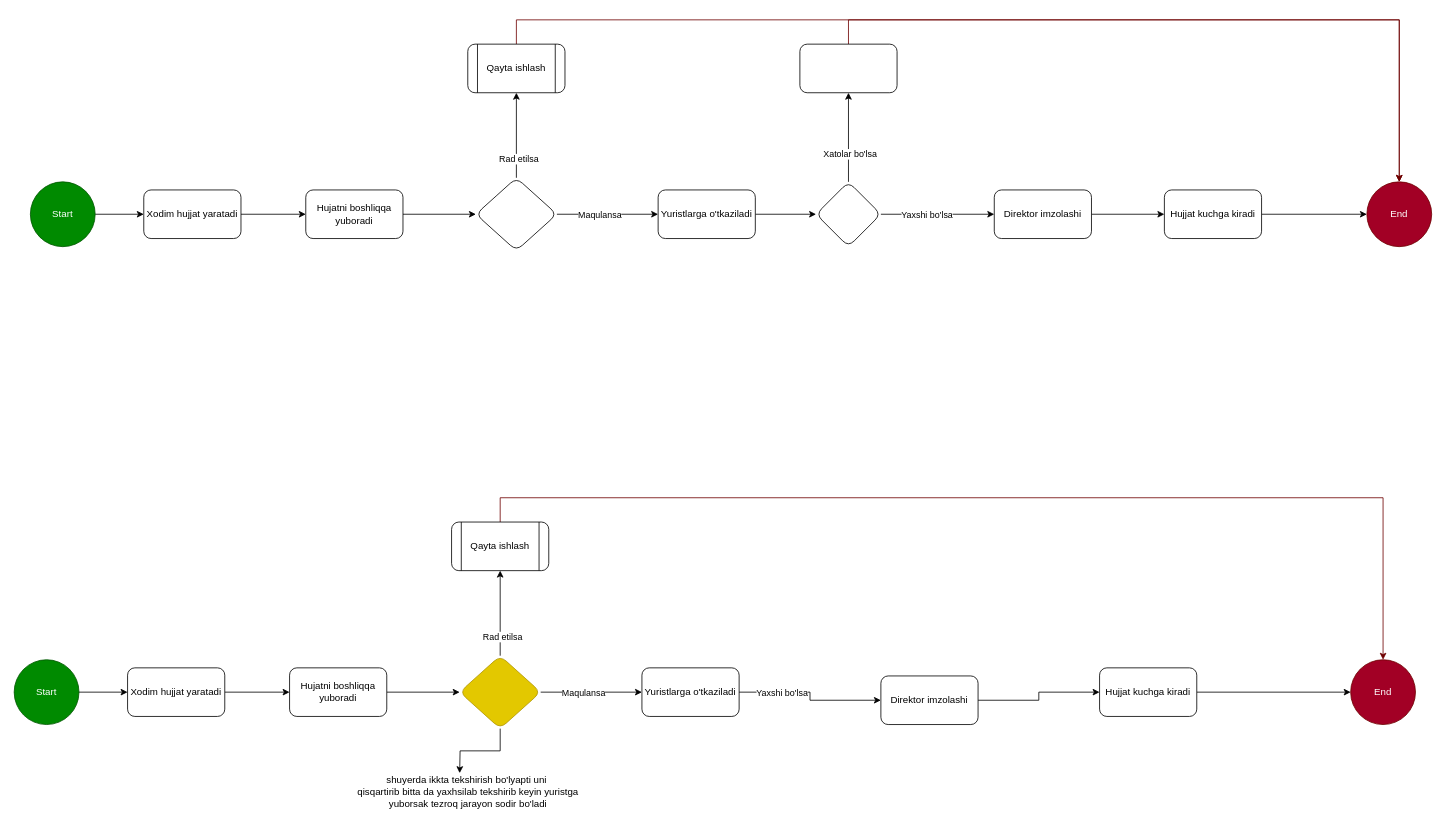
The diagram is 1446 pixels wide and 830 high, and some of its shapes have lost their labels. The shapes that lost their labels are listed below. From the top down, each one's centre as x and y in pixels, then its label:
point (848, 68): Qaytarish
point (516, 214): Tekshiradi
point (848, 214): Yuridik tekshiruv
point (500, 692): Tekshiradi va yuridik tekshirish
